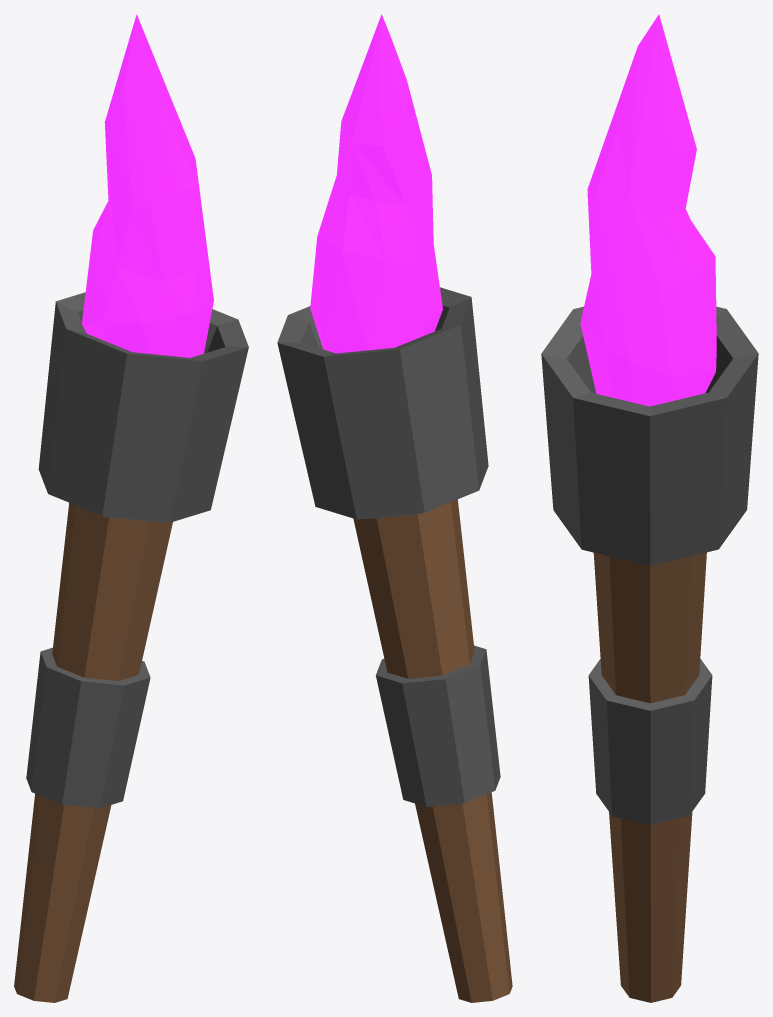
File: torch.glb
The picture shows the model from 3 angles, left to right: view 1: azimuth 30°, elevation 25°; view 2: azimuth 150°, elevation 25°; view 3: azimuth 270°, elevation 25°; orthographic projection. The views are drawn at different scales.
Parts seen in each view (by area): view 1: Torch.004; view 2: Torch.004; view 3: Torch.004.
Part boxes in pixels (bbox=[...]): Torch.004: bbox=[14, 14, 248, 1002]; Torch.004: bbox=[277, 14, 512, 1002]; Torch.004: bbox=[541, 14, 758, 1002].
Bounding box in the file's own units: 0.3442 × 1.42 × 0.2725.
